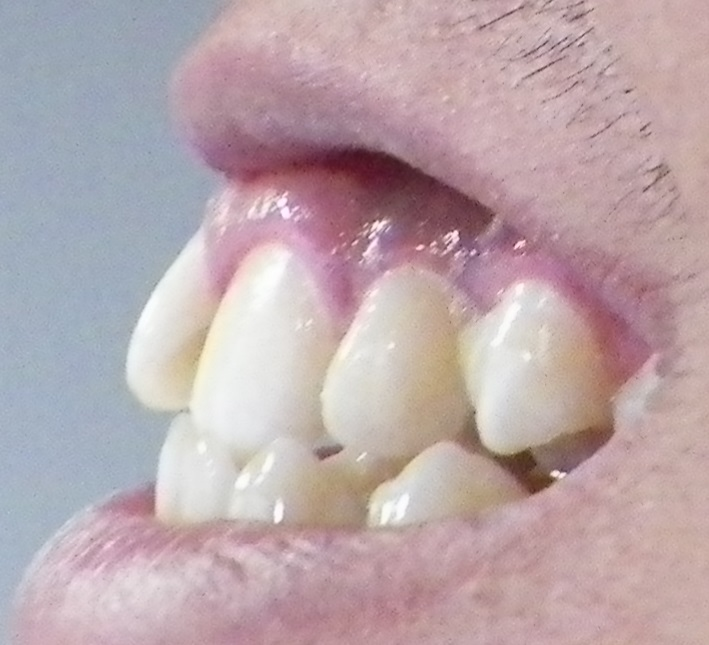boca: (128, 209, 613, 533)
